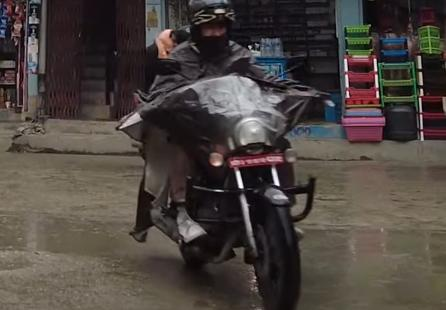bike: (120, 44, 334, 310)
